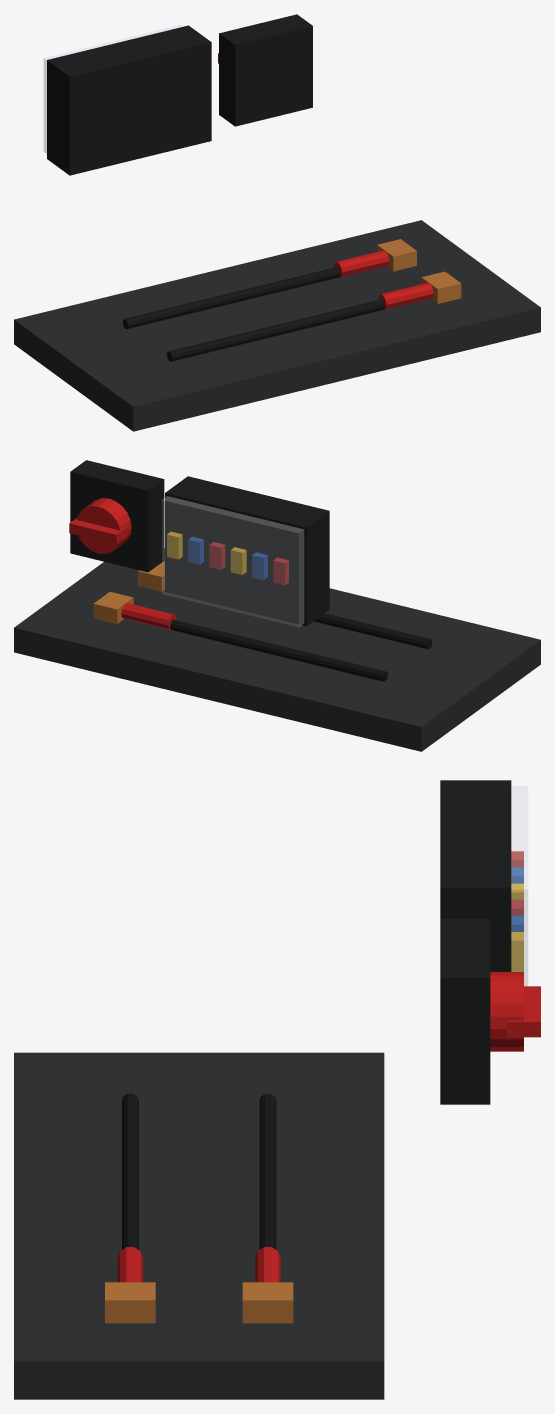
3 renders of one model, top to bottom at view 1: azimuth 30°, elevation 25°; view 2: azimuth 150°, elevation 25°; view 3: azimuth 270°, elevation 25°, orthographic. The views are drawn at different scales.
Visible parts, largest first — view 1: xs_el6_8_aft_bay; view 2: xs_el6_8_aft_bay; view 3: xs_el6_8_aft_bay.
Part boxes in pixels (x1=…): xs_el6_8_aft_bay: x1=14, y1=14, x2=540, y2=431; xs_el6_8_aft_bay: x1=14, y1=460, x2=540, y2=751; xs_el6_8_aft_bay: x1=14, y1=780, x2=540, y2=1399.
Bounding box in the file's own units: 0.345 × 0.1911 × 0.249.
